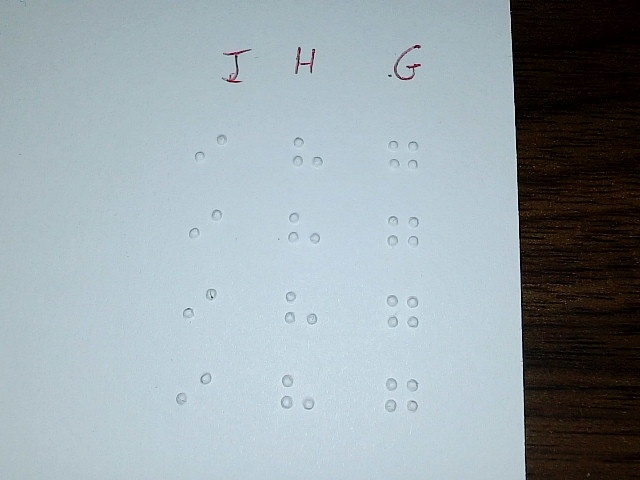G: (385, 130, 422, 190), (386, 205, 423, 265), (385, 285, 422, 345), (384, 371, 421, 431)
H: (282, 282, 320, 346), (280, 366, 318, 430), (290, 126, 327, 186), (286, 202, 323, 262)
I: (192, 123, 229, 183), (187, 197, 224, 257), (181, 278, 218, 338), (175, 362, 212, 422)
